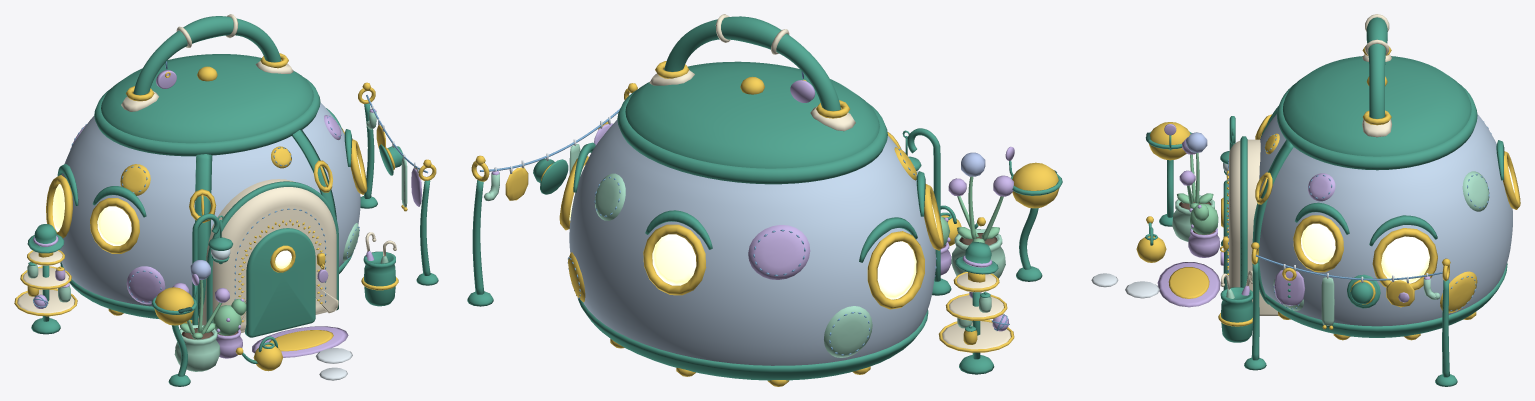
The model's file is house_08_0801.fbx.
The picture shows the model from 3 angles, left to right: view 1: azimuth 30°, elevation 25°; view 2: azimuth 150°, elevation 25°; view 3: azimuth 270°, elevation 25°; orthographic projection. The views are drawn at different scales.
Visible parts, largest first — view 1: House_Body_Bag, House_Lid, Entrance_Pocket, Entrance_Door, House_RimPiping, Roof_Handle, Window_Grommets, Prop_RoundShelf, Wall_Straps, Entrance_Mat, Prop_Clothesline_Posts, Window_Glass (+25 smaller); view 2: House_Body_Bag, House_Lid, Window_Grommets, House_RimPiping, House_BaseTrim, Roof_Handle, Prop_RoundShelf, Window_Glass, Wall_Patches_Mint, Wall_Patches_Pink, Window_Eyelids, Prop_Laundry (+11 smaller); view 3: House_Body_Bag, House_Lid, Prop_Laundry, House_RimPiping, Entrance_Pocket, Window_Grommets, Window_Glass, House_BaseTrim, Entrance_Mat, Prop_Clothesline_Posts, Roof_Handle, Prop_UmbrellaStand (+19 smaller).
Boxes of the visible parts, box(x1,y1,x2,y2) form: House_Body_Bag: box(59, 102, 360, 306); House_Lid: box(101, 54, 313, 143); Entrance_Pocket: box(191, 179, 338, 332); Entrance_Door: box(245, 228, 315, 337); House_RimPiping: box(94, 77, 320, 156); Roof_Handle: box(133, 16, 281, 95); Window_Grommets: box(46, 128, 367, 253); Prop_RoundShelf: box(14, 250, 77, 334); Wall_Straps: box(195, 130, 336, 317); Entrance_Mat: box(252, 326, 348, 357); Prop_Clothesline_Posts: box(360, 103, 438, 285); Window_Glass: box(52, 155, 361, 245); House_Body_Bag: box(569, 120, 935, 365); House_Lid: box(625, 61, 879, 168); Window_Grommets: box(559, 156, 943, 309); House_RimPiping: box(617, 90, 887, 184); House_BaseTrim: box(577, 297, 928, 380); Roof_Handle: box(664, 16, 840, 110); Prop_RoundShelf: box(938, 272, 1014, 374); Window_Glass: box(569, 165, 936, 299); Wall_Patches_Mint: box(595, 173, 872, 357); Wall_Patches_Pink: box(748, 225, 935, 279); Window_Eyelids: box(573, 142, 925, 262); Prop_Laundry: box(484, 122, 612, 200); House_Body_Bag: box(1259, 114, 1512, 326); House_Lid: box(1283, 56, 1471, 156); Prop_Laundry: box(1274, 267, 1440, 329); House_RimPiping: box(1277, 84, 1477, 170); Entrance_Pocket: box(1229, 139, 1278, 315); Window_Grommets: box(1293, 151, 1520, 290); Window_Glass: box(1301, 166, 1514, 283); House_BaseTrim: box(1265, 263, 1507, 337); Entrance_Mat: box(1157, 262, 1220, 307); Prop_Clothesline_Posts: box(1244, 263, 1457, 386); Roof_Handle: box(1366, 17, 1387, 118); Prop_UmbrellaStand: box(1218, 287, 1252, 342).
Size of the model in its own units: 6.32 by 3.85 by 5.71.
